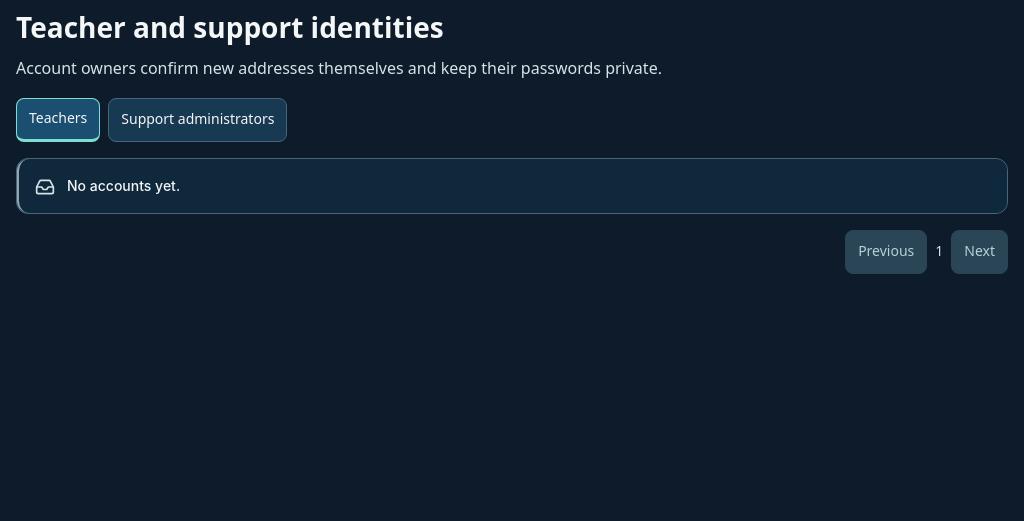
Test: email confirmation and account administration › confirms en support authority revocation separately from freezing
What coordinates should you click on to do the following:
click the button "Support administrators"
I would click on:
 (198, 120)
Its box is [108,98,287,142].
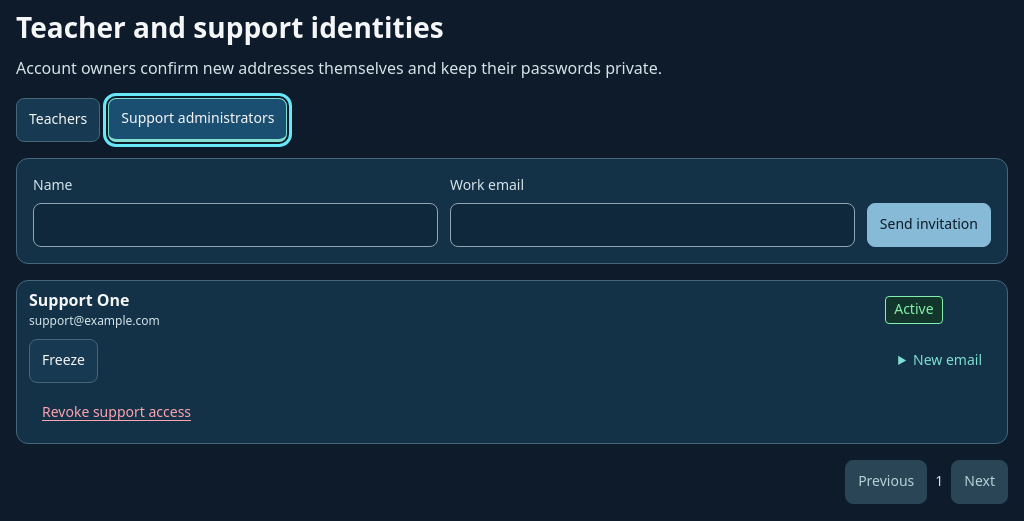
Now the button "Freeze" is shown, box [29,339,98,383]
What coordinates should you click on to do the following:
click the button "Revoke support access"
I would click on:
 (116, 413)
Its box is [29,391,204,435].
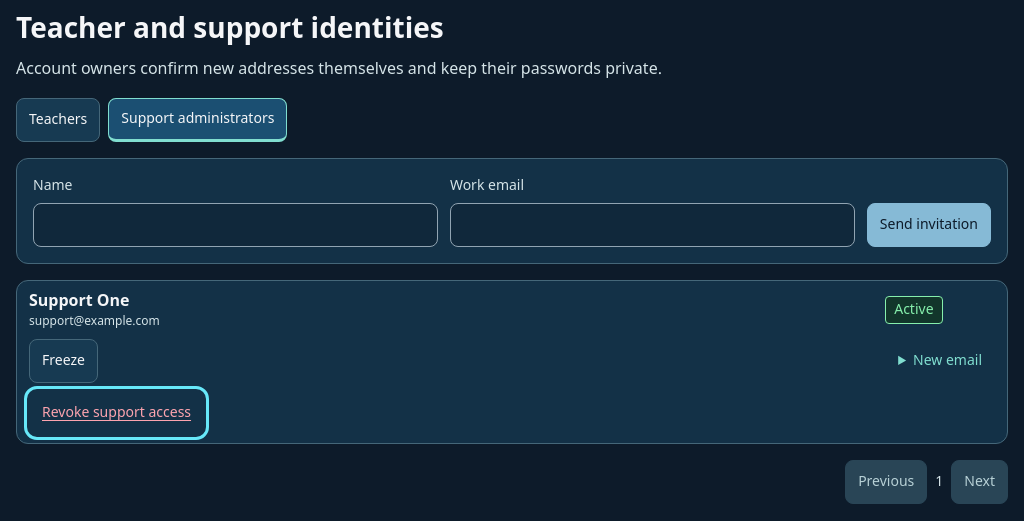
What coordinates should you click on to do the following:
click the button "Revoke support access"
I would click on:
 (116, 413)
Its box is [29,391,204,435].
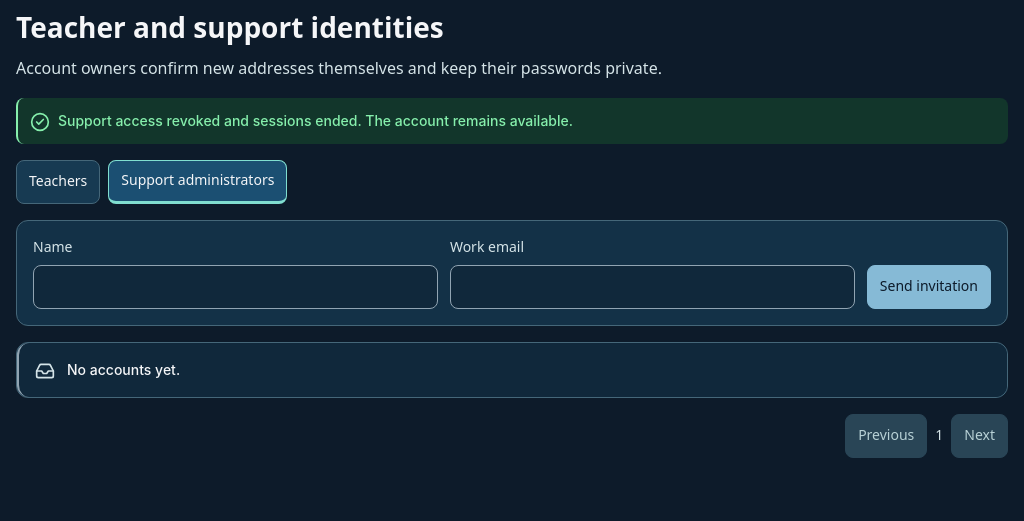
Now the heading "Support One" is gone
Now the message "Support access revoked and sessions ended. The account remains available." is shown, box [16,98,1008,144]
